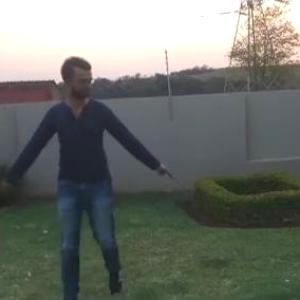land: (1, 22, 230, 299)
